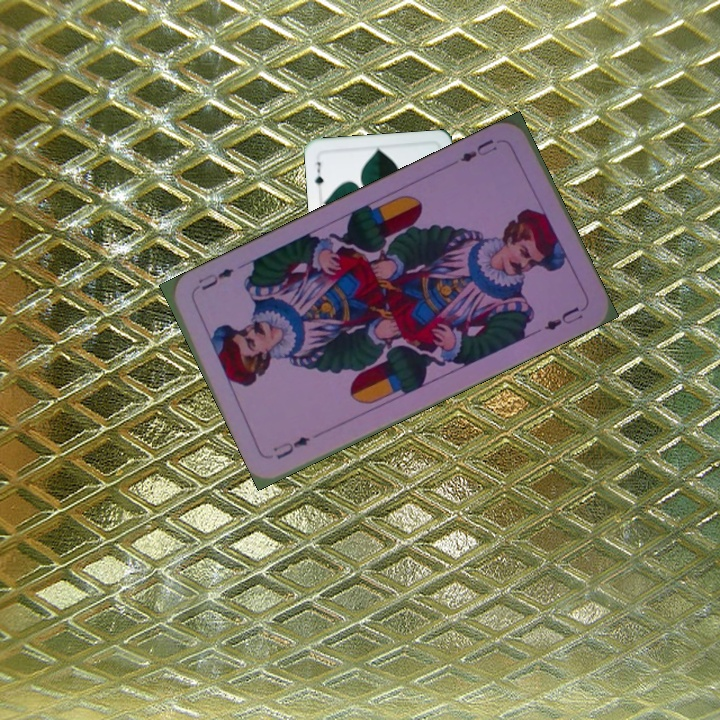EU: (269, 432, 313, 462), (456, 135, 499, 165)
G7: (311, 158, 326, 188)
